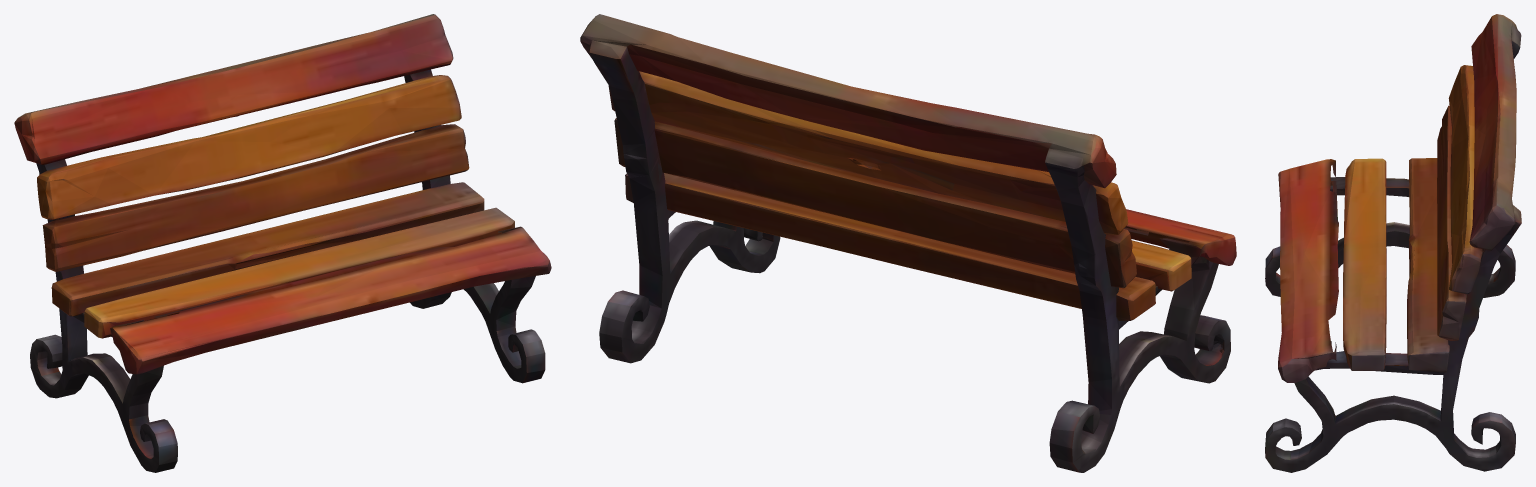
The model's file is bench.glb.
3 renders of one model, left to right at view 1: azimuth 30°, elevation 25°; view 2: azimuth 150°, elevation 25°; view 3: azimuth 270°, elevation 25°, orthographic. The views are drawn at different scales.
Visible parts, largest first — view 1: geometry_0; view 2: geometry_0; view 3: geometry_0.
Part boxes in pixels (x1,y1,x2,y2): geometry_0: (14, 14, 551, 472); geometry_0: (580, 14, 1236, 472); geometry_0: (1265, 14, 1521, 472).
Size of the model in its own units: 0.9988 by 0.6387 by 0.5454.
Materials: 1 (1 with a texture image).
